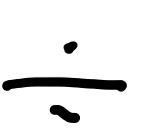div: (3, 41, 127, 123)
